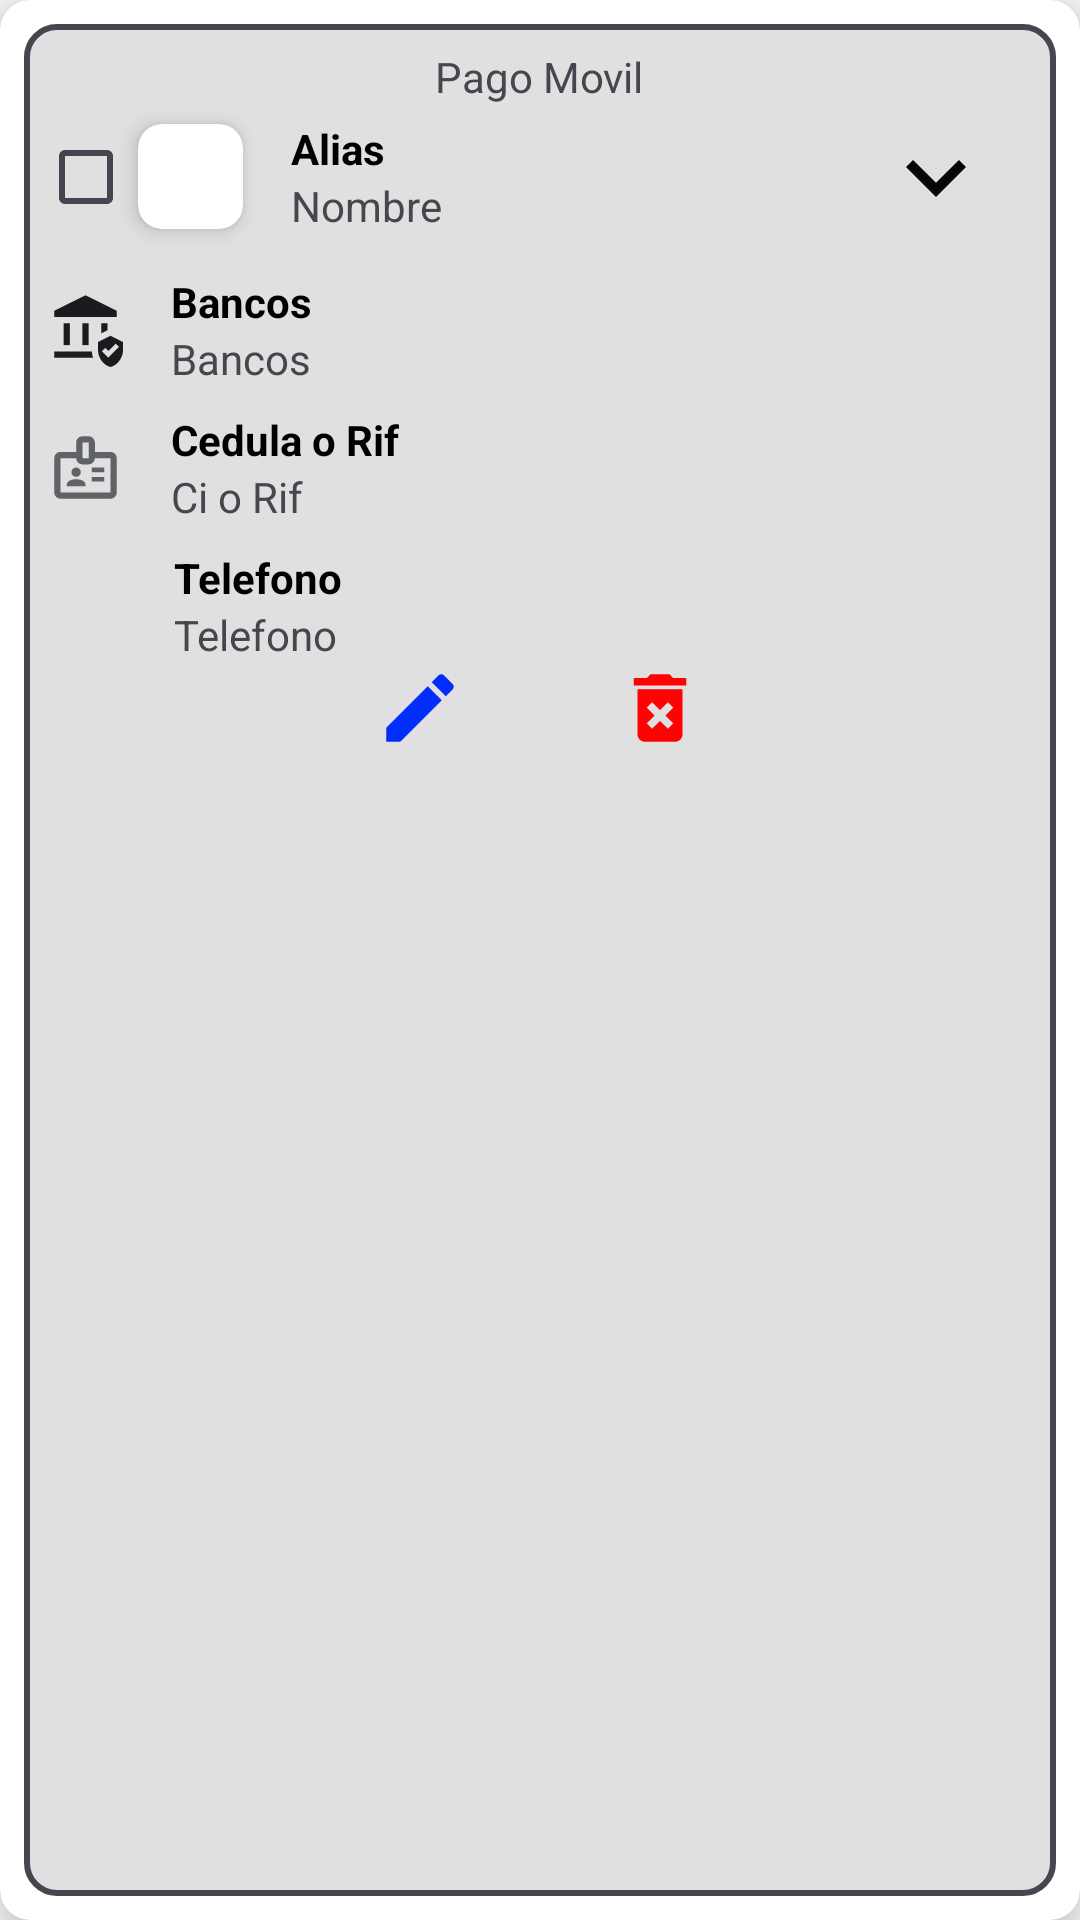

Where icons sit on this 1080w x 1920h app screen, as (x1, y1, x2, y2):
arrow down: (906, 160, 966, 197)
Delete: (633, 674, 687, 742)
Edit: (386, 674, 454, 742)
instituciones: (54, 295, 123, 367)
